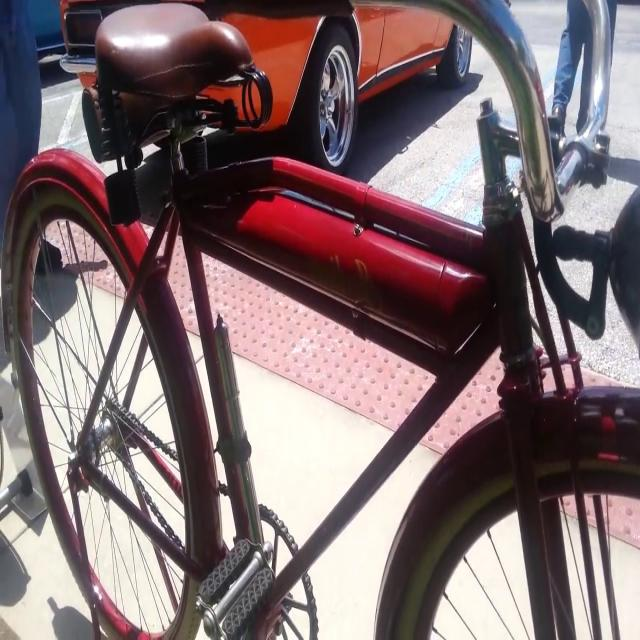bicycle: (2, 0, 640, 638)
